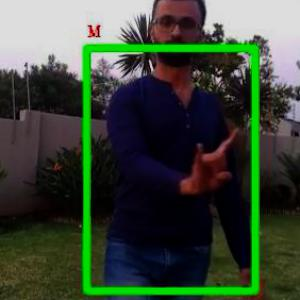takeoff-hand: (185, 121, 250, 202)
